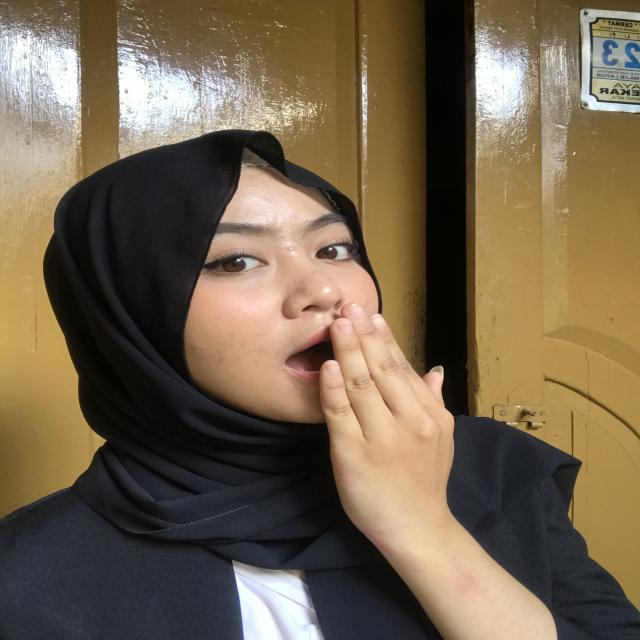ngantuk: (265, 292, 510, 556)
